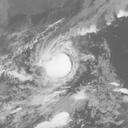cyclone: (36, 41, 80, 87)
